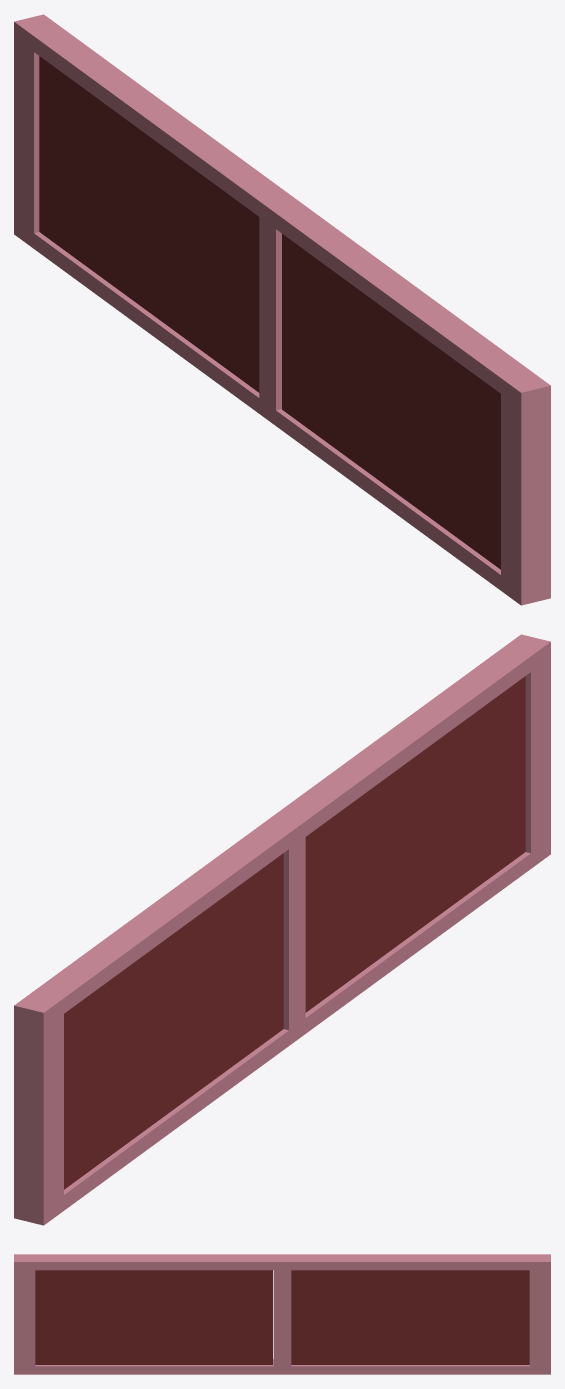
File: Gym_window.fbx
3 renders of one model, top to bottom at view 1: azimuth 30°, elevation 25°; view 2: azimuth 150°, elevation 25°; view 3: azimuth 270°, elevation 25°, orthographic. The views are drawn at different scales.
Parts seen in each view (by area): view 1: Gym_window; view 2: Gym_window; view 3: Gym_window.
Part boxes in pixels (left/top/right/bottom): Gym_window: left=14, top=14, right=550, bottom=605; Gym_window: left=14, top=634, right=550, bottom=1225; Gym_window: left=14, top=1254, right=550, bottom=1374.
Size of the model in its own units: 11.96 by 81.55 by 352.
